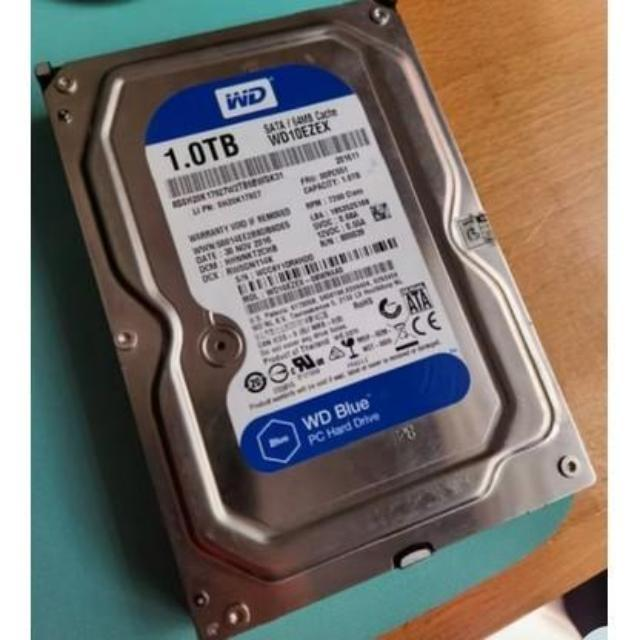DISK: (50, 0, 596, 629)
